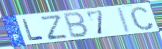7: (85, 9, 105, 36)
B: (63, 11, 90, 39)
C: (129, 5, 156, 32)
I: (117, 6, 133, 35)
L: (21, 18, 46, 42)
Z: (39, 14, 70, 41)
